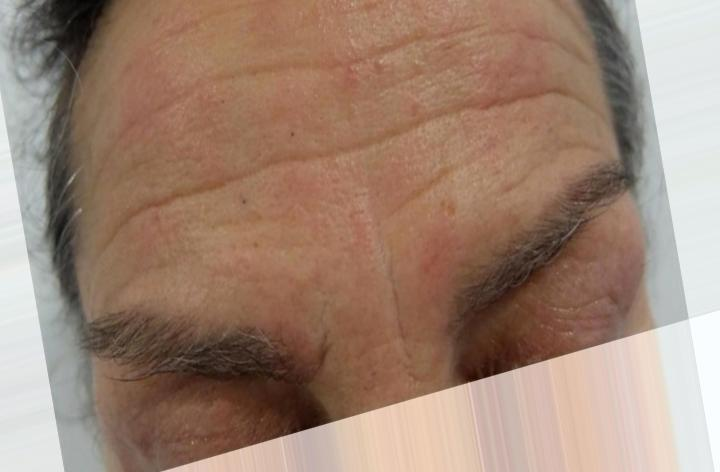Contact Dermatitis: (80, 53, 552, 252)
